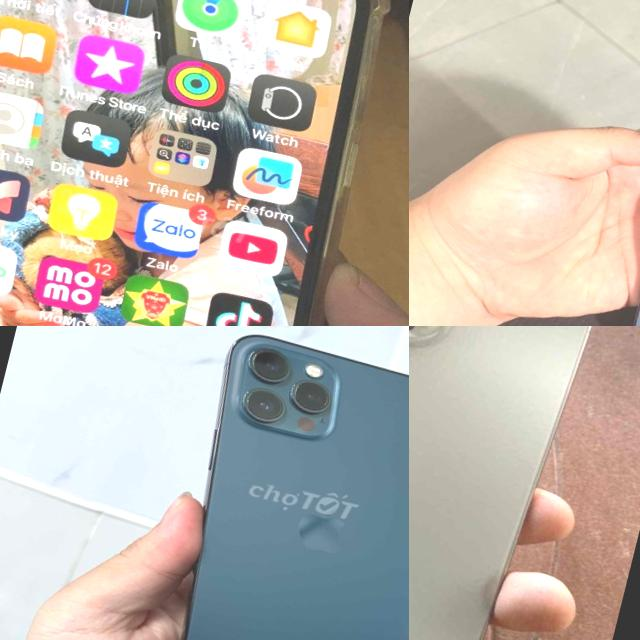gen_12_13: (0, 0, 409, 326), (127, 326, 409, 640)
gen_16: (409, 326, 588, 640)
